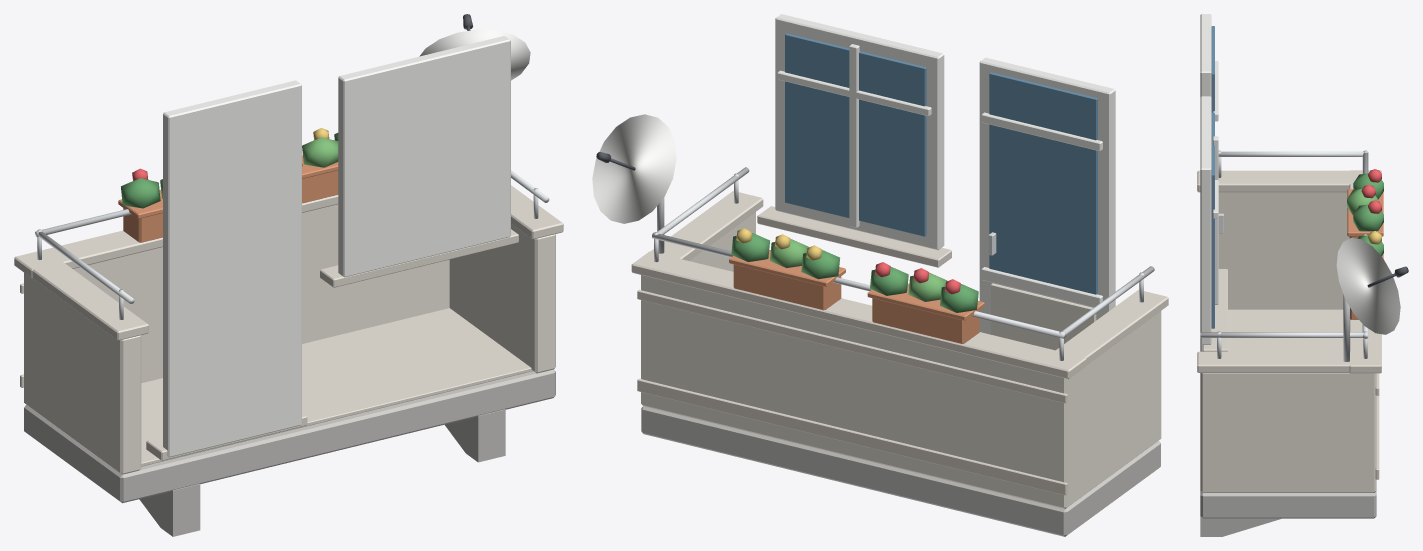
Rendered from Sultanbeyli_Balcony_MasonryCorner.fbx.
3 views of the same model, side by side, from view 1: azimuth 30°, elevation 25°; view 2: azimuth 150°, elevation 25°; view 3: azimuth 270°, elevation 25° (orthographic). The views are drawn at different scales.
Visible parts, largest first — view 1: Sultanbeyli_Balcony_MasonryCorner; view 2: Sultanbeyli_Balcony_MasonryCorner; view 3: Sultanbeyli_Balcony_MasonryCorner.
Part boxes in pixels (<box>): Sultanbeyli_Balcony_MasonryCorner: <box>14,14,563,536</box>; Sultanbeyli_Balcony_MasonryCorner: <box>592,14,1168,536</box>; Sultanbeyli_Balcony_MasonryCorner: <box>1197,14,1408,536</box>.
Bounding box in the file's own units: 3.28 × 2.64 × 1.34.
